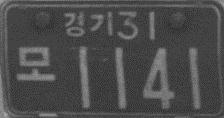1: (67, 45, 102, 108), (104, 46, 138, 109), (179, 46, 212, 109), (142, 9, 162, 40)
3: (117, 10, 138, 40)
4: (141, 46, 175, 109)
경기_O: (63, 10, 113, 37)
모: (15, 45, 55, 81)
